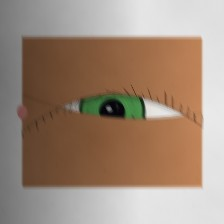pinguecula_lesion: (27, 90, 67, 121)
